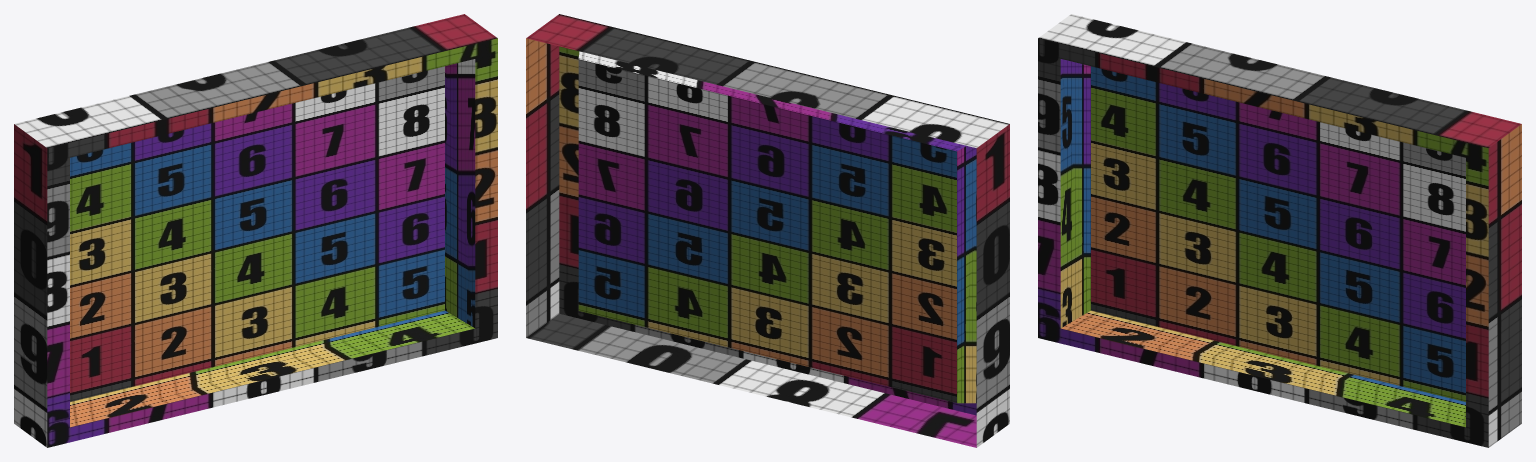
The picture shows the model from 3 angles, left to right: view 1: azimuth 30°, elevation 25°; view 2: azimuth 150°, elevation 25°; view 3: azimuth 330°, elevation 25°; orthographic projection.
Parts seen in each view (by area): view 1: TV1; view 2: TV1; view 3: TV1.
Boxes of the visible parts, x1,y1,x2,y2 form: TV1: (14,14,497,447); TV1: (526,14,1009,447); TV1: (1038,14,1521,447).
Size of the model in its own units: 47.54 by 30.21 by 6.07.
1 material, 1 textured.
